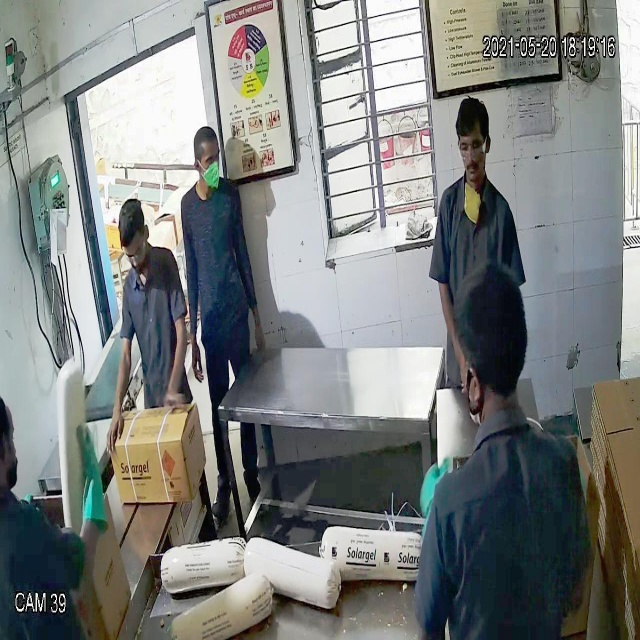Gafas: (455, 135, 490, 164), (122, 242, 149, 265)
Sin_gafas: (191, 153, 225, 171)
